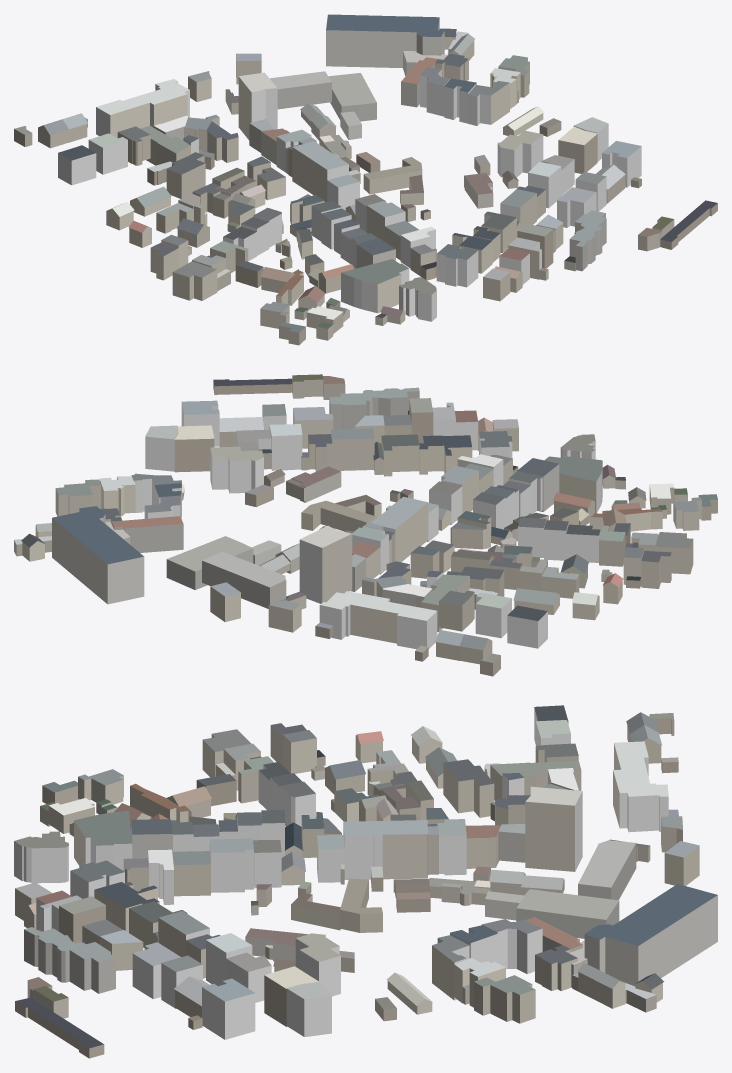
3 views of the same model, one above another, from view 1: azimuth 30°, elevation 25°; view 2: azimuth 150°, elevation 25°; view 3: azimuth 270°, elevation 25° (orthographic). The views are drawn at different scales.
Parts seen in each view (by area): view 1: tuile; view 2: tuile; view 3: tuile.
Part boxes in pixels (x1,y1,x2,y2): tuile: (14, 14, 717, 345); tuile: (14, 374, 717, 676); tuile: (14, 705, 717, 1058).
Bounding box in the file's own units: 278 × 44.67 × 269.
